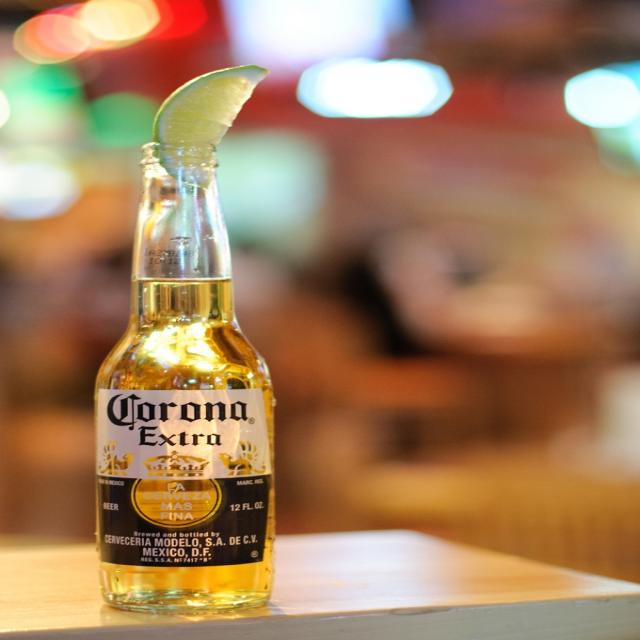corona: (98, 389, 273, 569)
